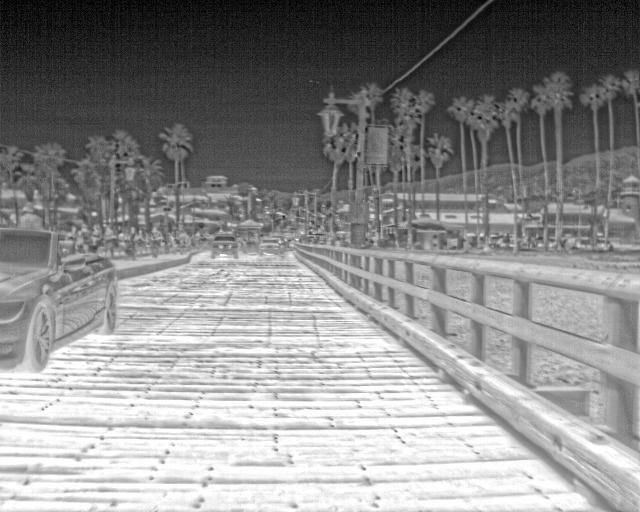bicycle: (0, 225, 119, 376), (209, 228, 239, 258), (256, 232, 285, 255)
empty: (101, 223, 118, 257), (147, 226, 163, 259), (123, 227, 137, 260), (90, 221, 103, 252), (77, 222, 89, 253), (64, 223, 79, 242)
